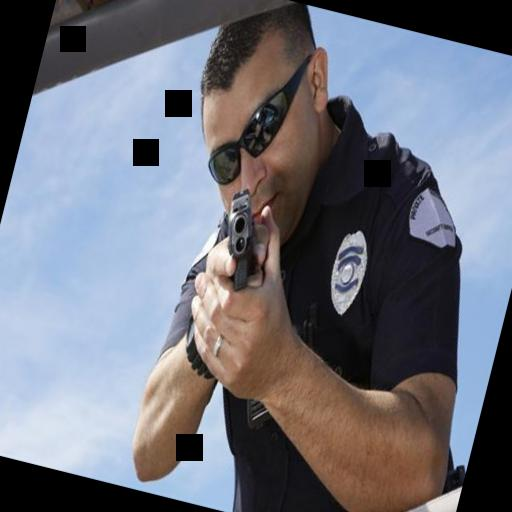Handgun: (207, 180, 274, 293)
